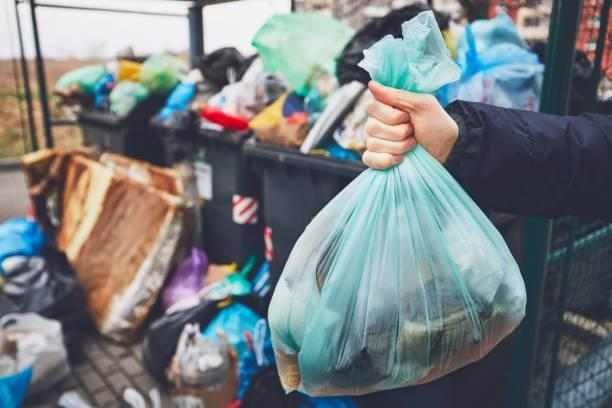trash: (263, 103, 521, 391), (30, 129, 171, 345), (313, 50, 408, 182), (123, 290, 254, 382), (437, 19, 533, 129), (254, 18, 323, 143), (167, 317, 244, 408), (200, 287, 270, 387), (5, 243, 78, 323), (89, 54, 166, 126), (0, 307, 74, 380), (167, 241, 244, 306), (211, 57, 259, 141), (54, 63, 118, 116), (158, 57, 205, 127), (0, 204, 57, 257)
trash_can_overflow: (246, 3, 575, 408), (171, 22, 302, 400), (121, 17, 246, 343), (30, 30, 129, 250)
